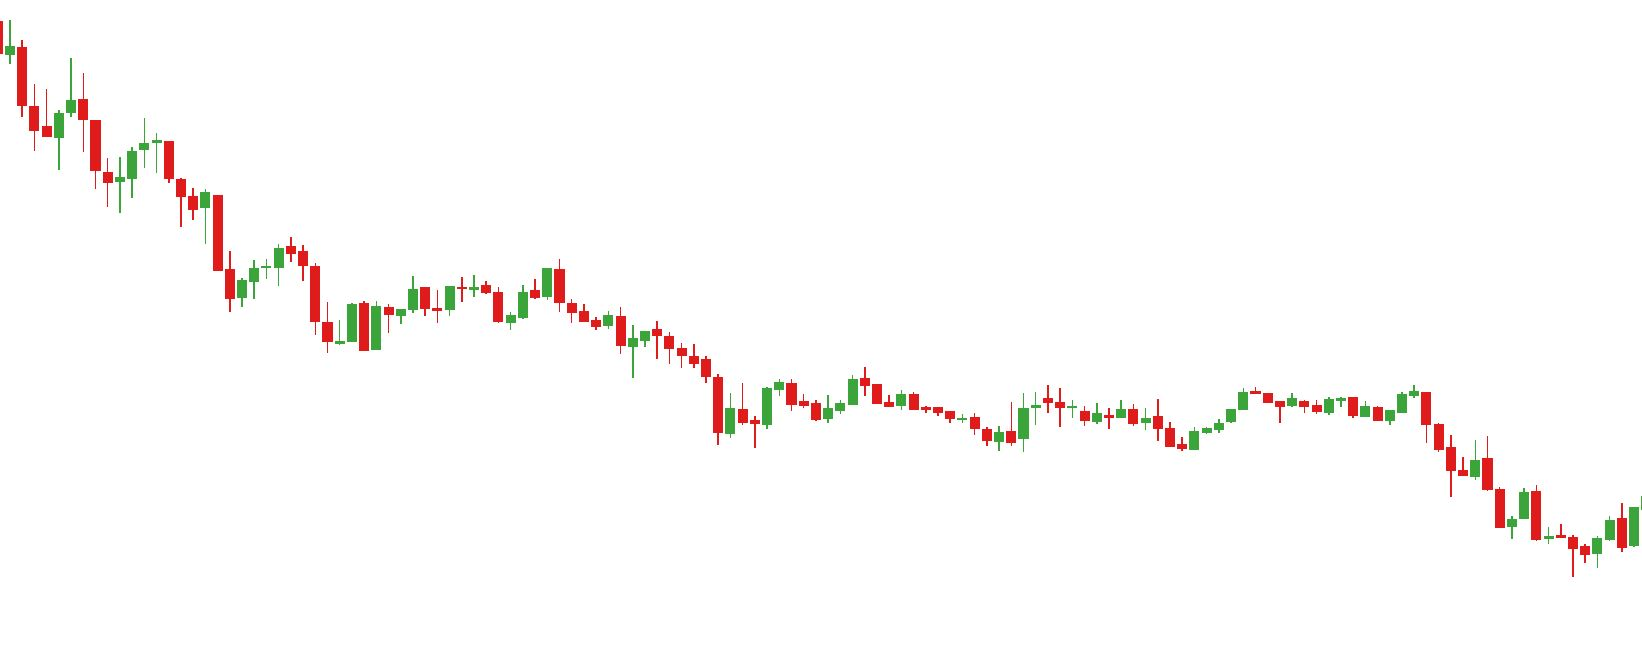sell: (1150, 389, 1287, 431), (775, 365, 873, 409)
